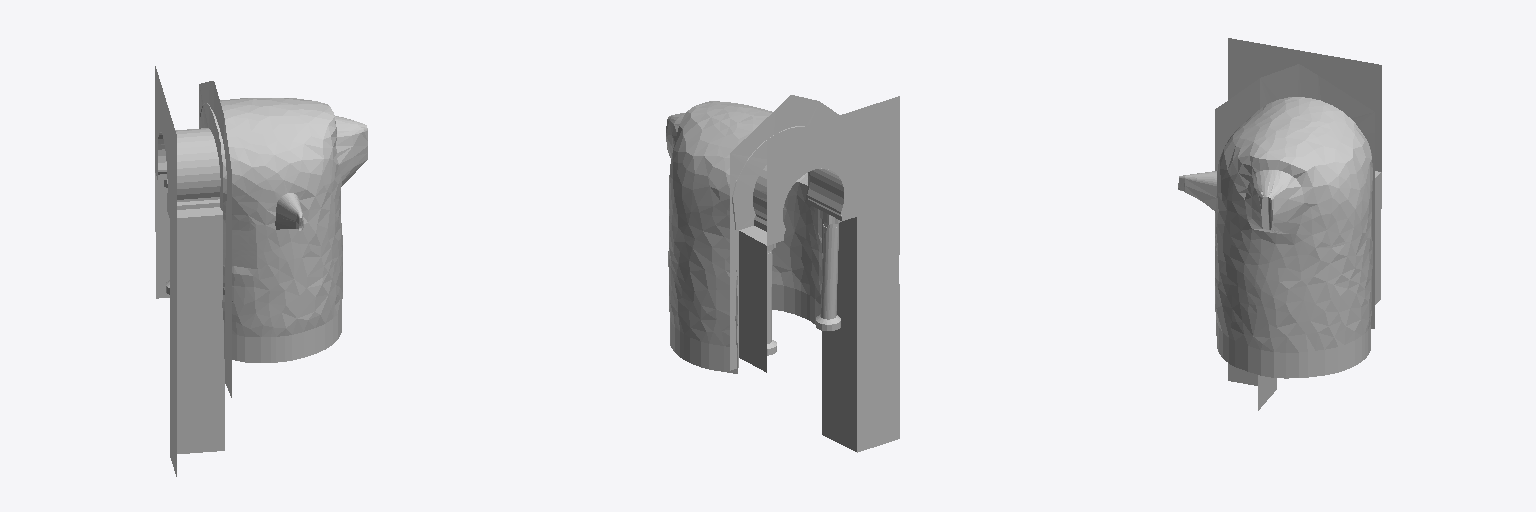
File: Pedret_XIII_absS.obj
The picture shows the model from 3 angles: view 1: azimuth 30°, elevation 25°; view 2: azimuth 150°, elevation 25°; view 3: azimuth 270°, elevation 25°; orthographic projection.
Visible parts, largest first — view 1: PEDRET_XIII-baked-absS; view 2: PEDRET_XIII-baked-absS; view 3: PEDRET_XIII-baked-absS.
Part boxes in pixels (x1,y1,x2,y2): PEDRET_XIII-baked-absS: (155, 66, 367, 476); PEDRET_XIII-baked-absS: (666, 95, 899, 452); PEDRET_XIII-baked-absS: (1178, 38, 1381, 410).
Bounding box in the file's own units: 3.36 × 5.36 × 2.8.